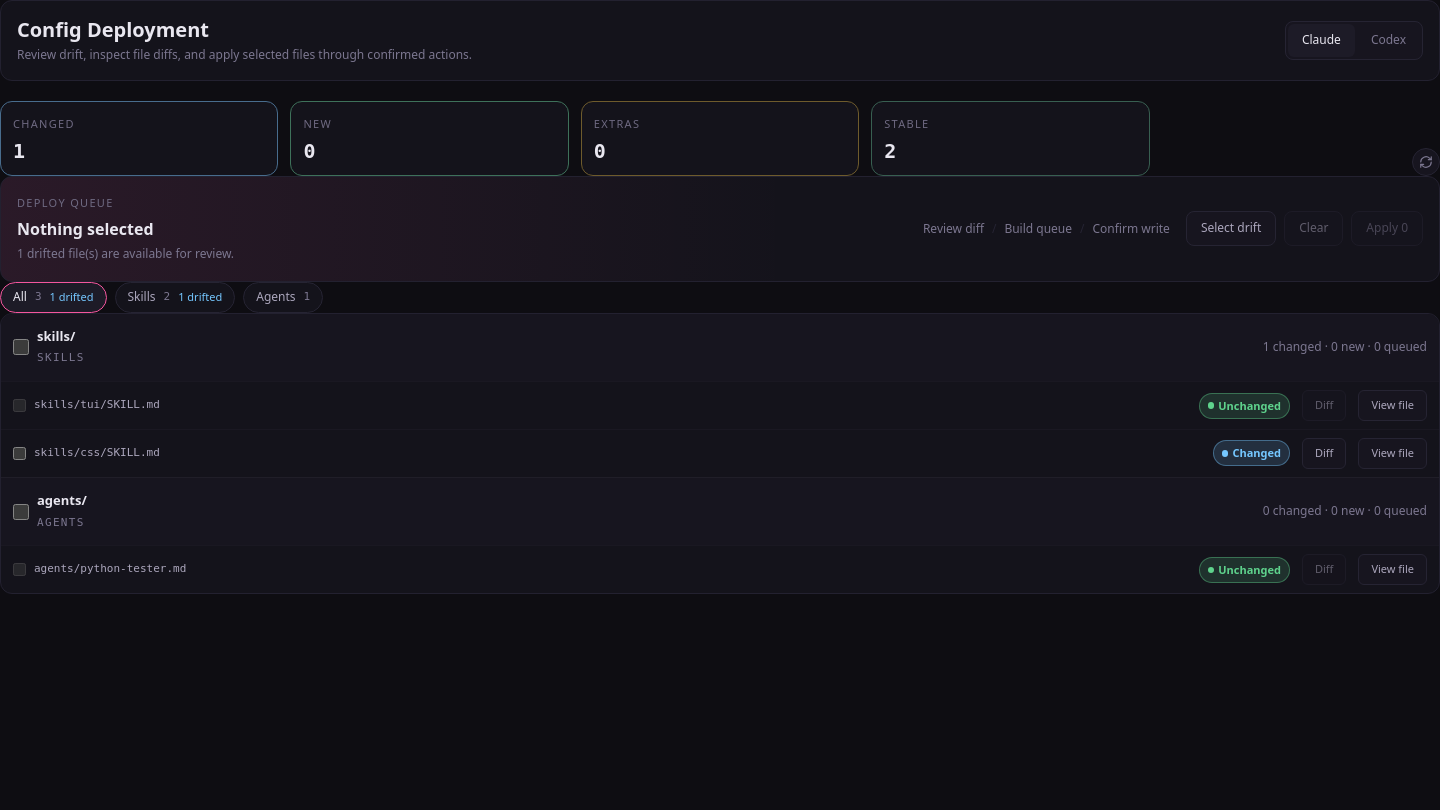
Test case: Deploy config tree › renders a markdown file as a document, with raw behind a toggle
The width and height of the screenshot is (1440, 810).
Check: the text "skills/tui/SKILL.md" is shown, box [34,395,160,416]
Click the button "View file" in the row of "skills/tui/SKILL.md".
click(1393, 406)  # box [1358,390,1427,421]
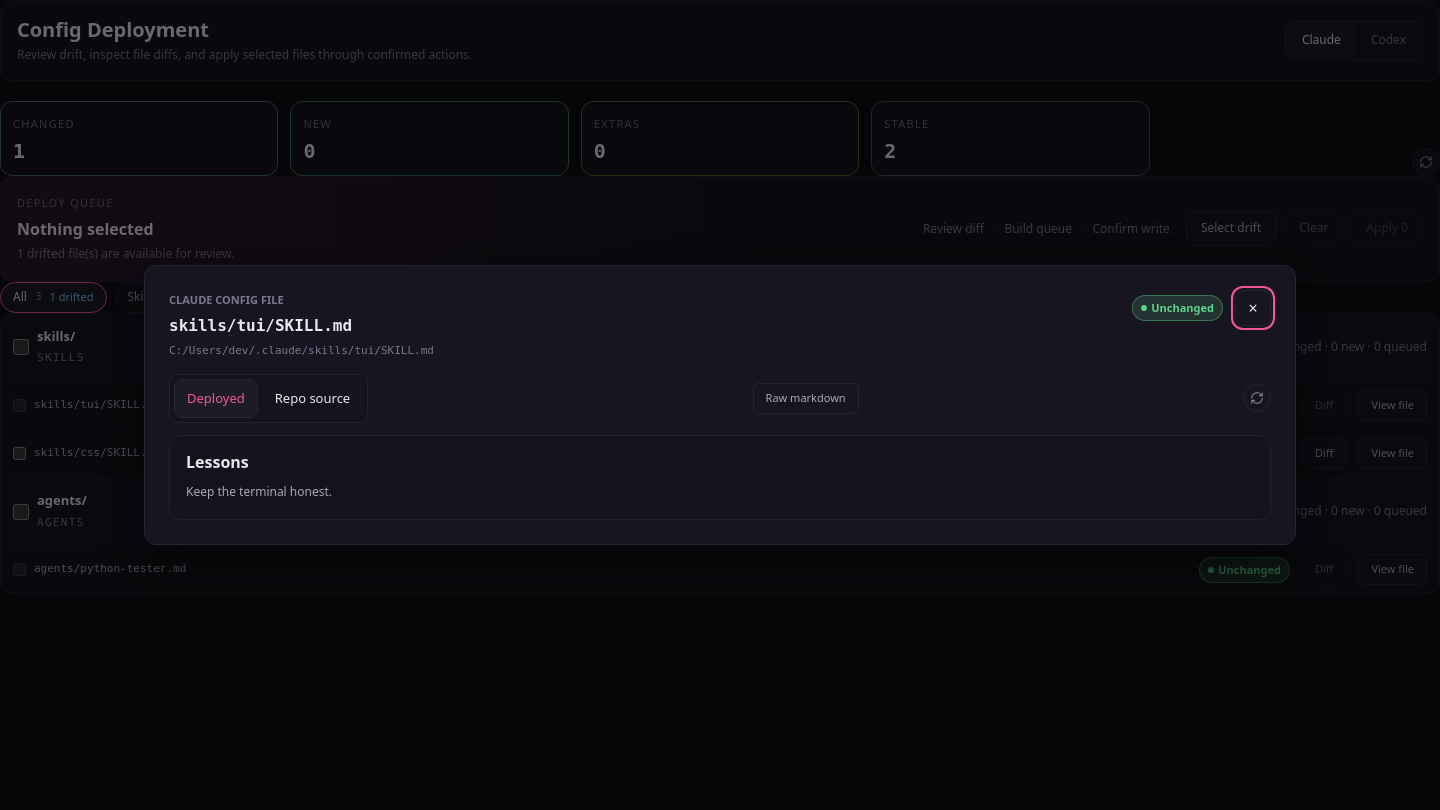
Check: the heading "Lessons" is shown, box [186,451,249,473]
Check: the text "Keep the terminal honest." is shown, box [186,483,332,500]
Click the button "Raw markdown".
click(806, 398)  # box [753,383,859,414]
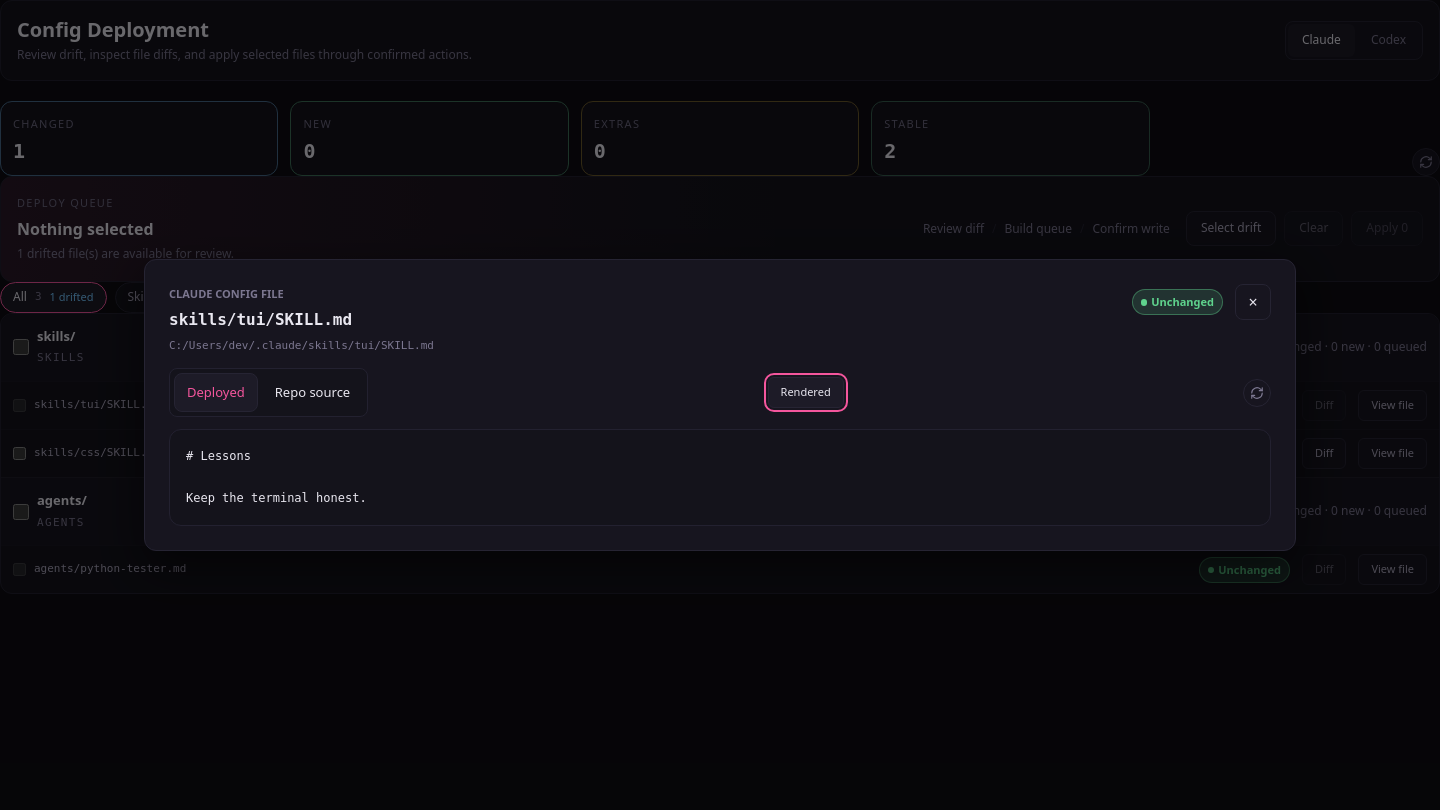
Check: the text "# Lessons Keep the terminal honest." is shown, box [186,449,367,505]
